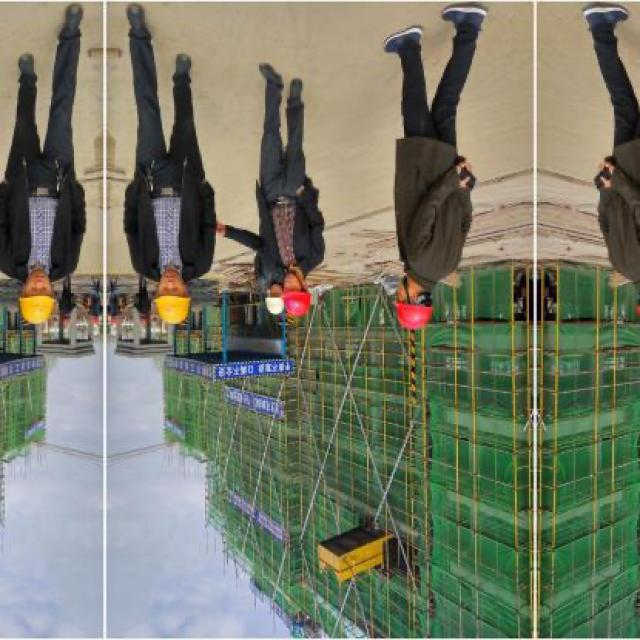con casco: (0, 231, 106, 333), (114, 240, 213, 344), (278, 228, 354, 339), (380, 260, 474, 342)
